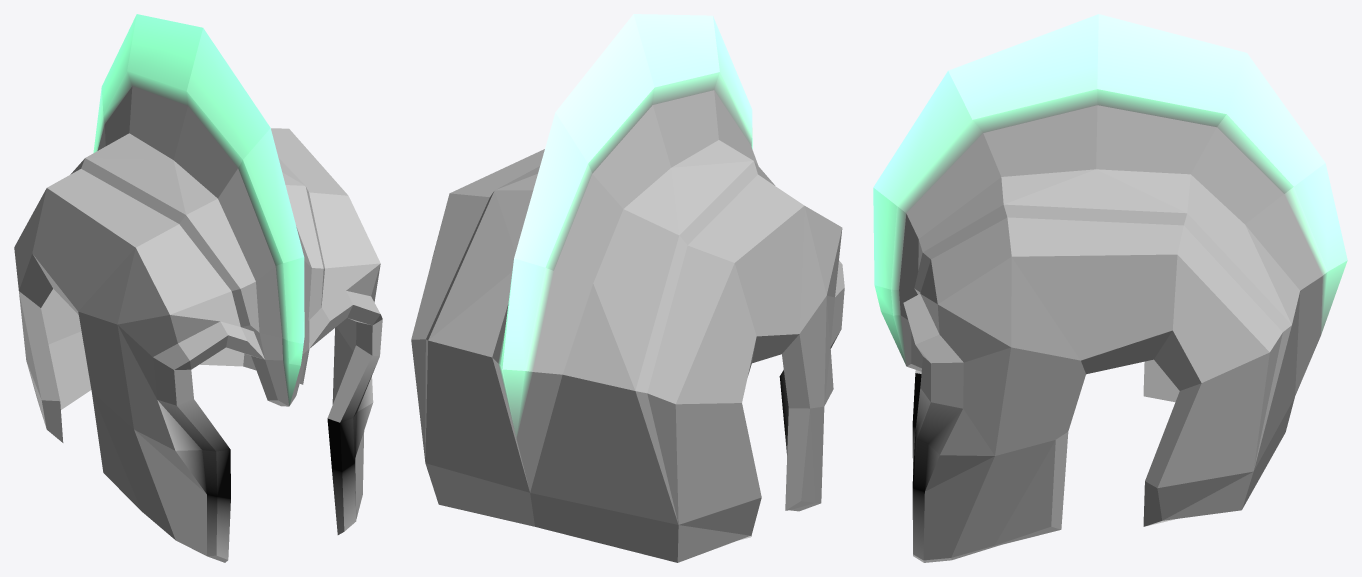
The model's file is Chr_Attach_Helmet_05.fbx.
The picture shows the model from 3 angles, left to right: view 1: azimuth 30°, elevation 25°; view 2: azimuth 150°, elevation 25°; view 3: azimuth 270°, elevation 25°; orthographic projection. The views are drawn at different scales.
Parts seen in each view (by area): view 1: Chr_Attach_Helmet_05; view 2: Chr_Attach_Helmet_05; view 3: Chr_Attach_Helmet_05.
Part boxes in pixels (x1,y1,x2,y2): Chr_Attach_Helmet_05: [14, 14, 382, 562]; Chr_Attach_Helmet_05: [411, 14, 844, 562]; Chr_Attach_Helmet_05: [873, 14, 1347, 562].
Size of the model in its own units: 27.11 by 43.49 by 36.08.
